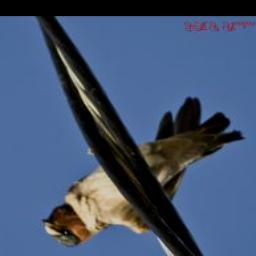Swallow: (38, 95, 245, 250)
